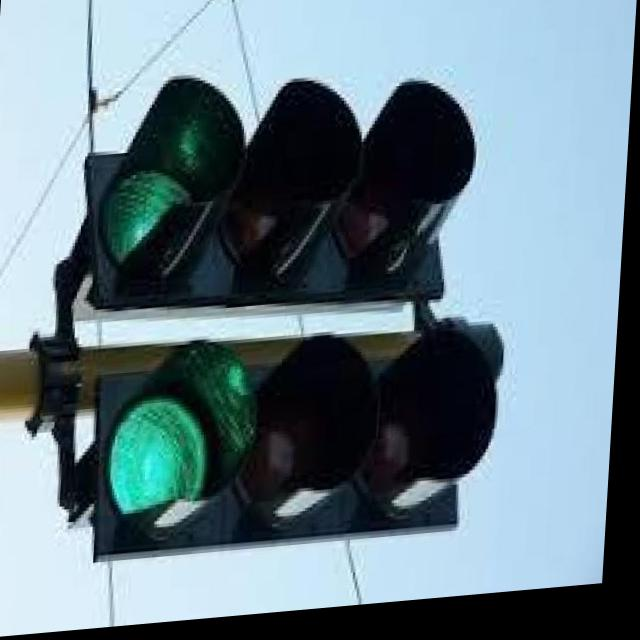green light: (106, 328, 485, 555), (101, 82, 474, 311)
